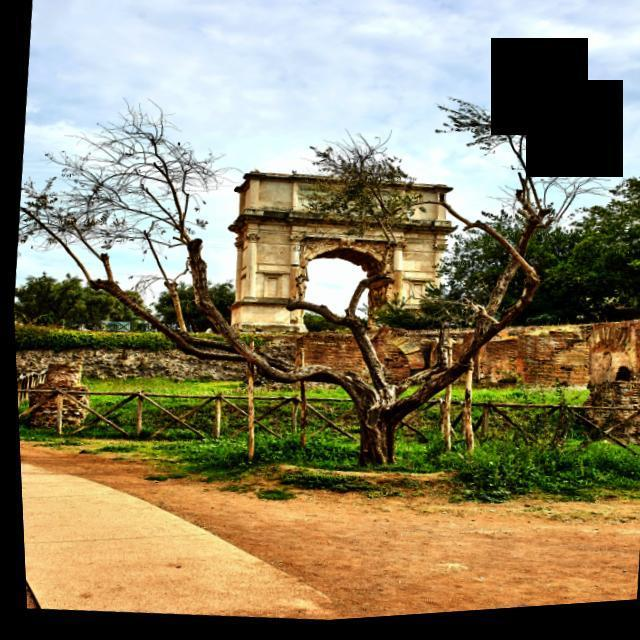tree: (14, 78, 612, 546)
